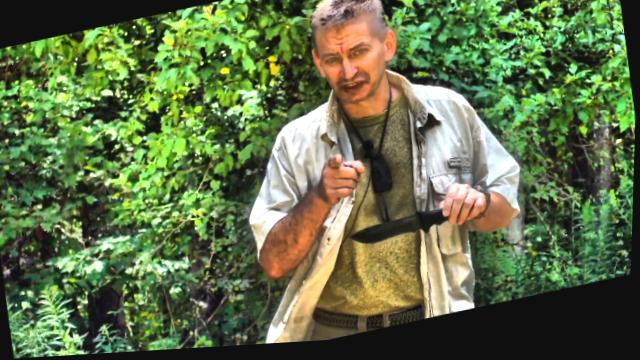knife: (342, 184, 476, 257)
